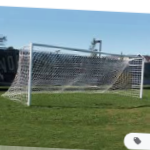goals: (1, 41, 146, 107)
